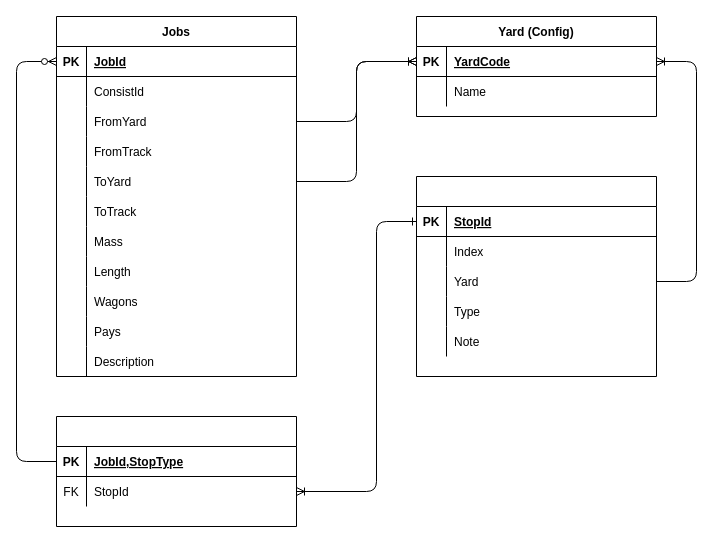
Image size: 713x543. Some labels were removed from this diagram. Each missing label, with the box of its shape:
JourneyStop: (416, 176, 656, 376)
StopJobs: (56, 416, 296, 526)
